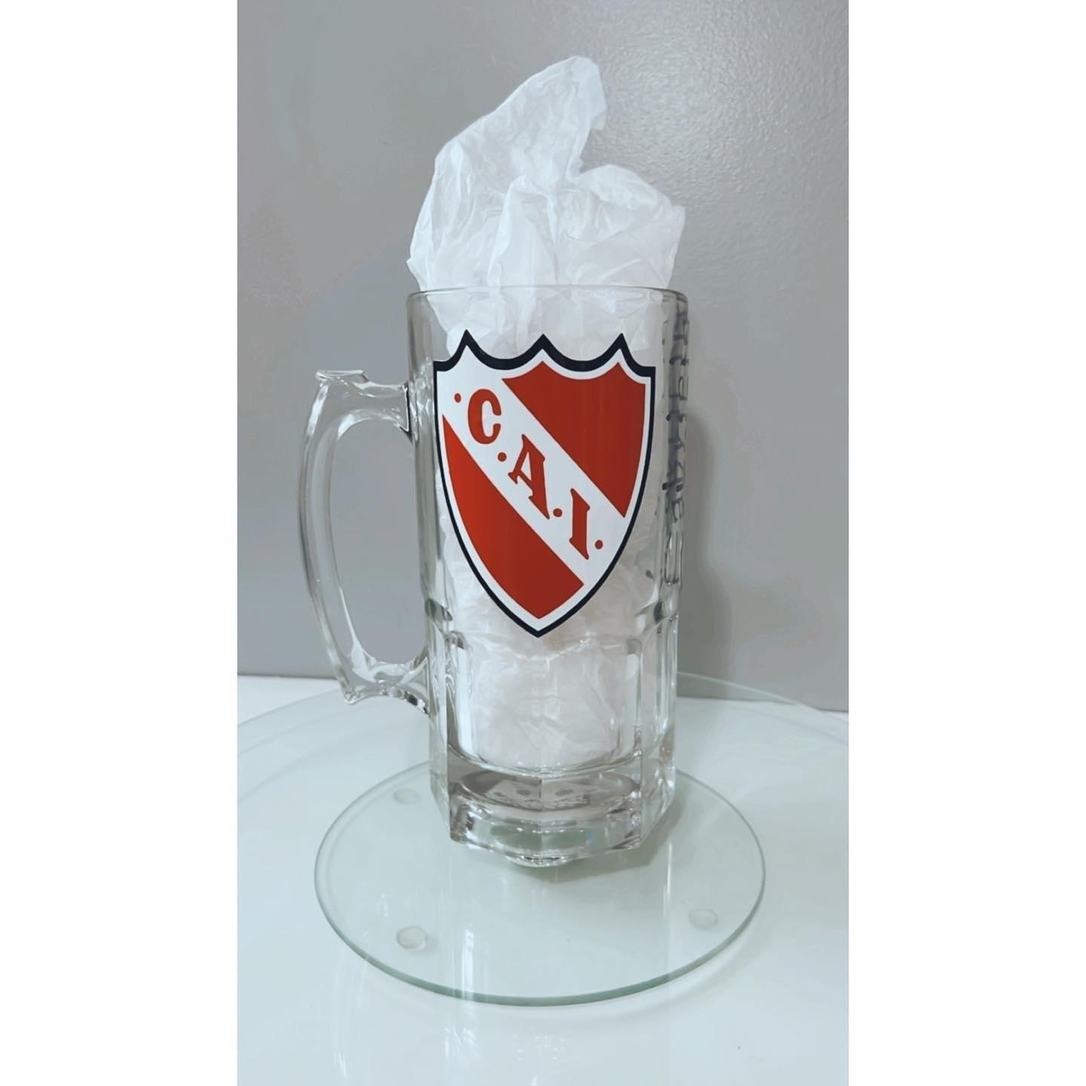glass-mug: (296, 271, 709, 876)
